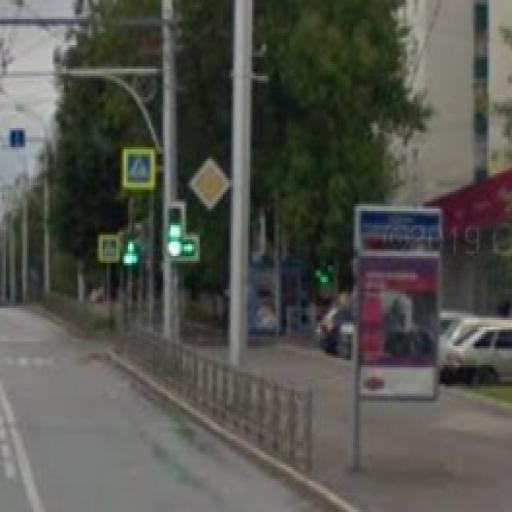traffic_sign: (189, 155, 234, 214), (119, 146, 160, 196), (99, 234, 124, 265)
